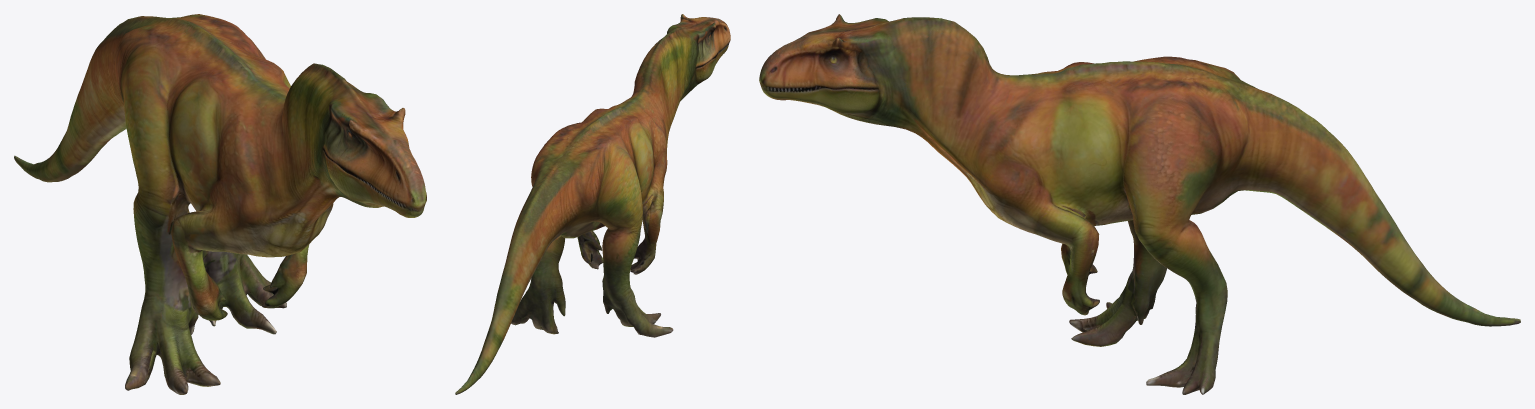
The model's file is 10 Piatnitzkysaurus 3D.glb.
3 renders of one model, left to right at view 1: azimuth 30°, elevation 25°; view 2: azimuth 150°, elevation 25°; view 3: azimuth 270°, elevation 25°, orthographic. The views are drawn at different scales.
Parts seen in each view (by area): view 1: Mesh0; view 2: Mesh0; view 3: Mesh0.
Part boxes in pixels (box(x1,y1,x2,y2)): Mesh0: box(14, 14, 426, 394); Mesh0: box(455, 14, 730, 394); Mesh0: box(759, 14, 1520, 394).
Size of the model in its own units: 5.06 by 8.57 by 17.18.
1 material, 1 textured.
